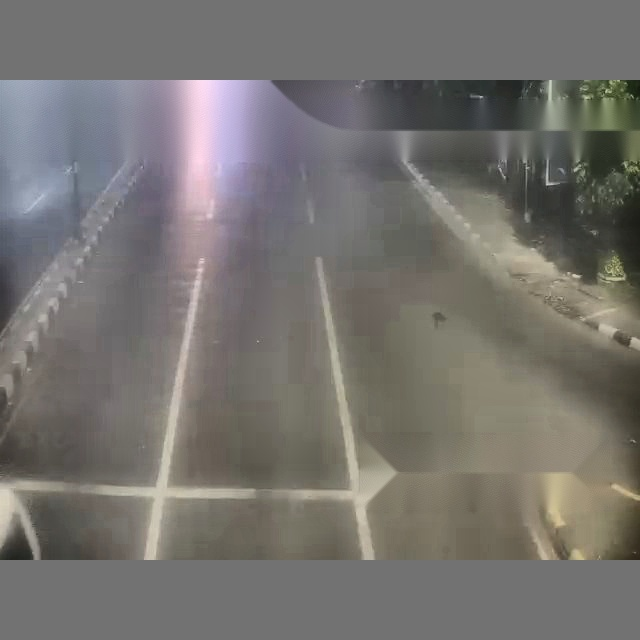Truk: (190, 81, 640, 558)
